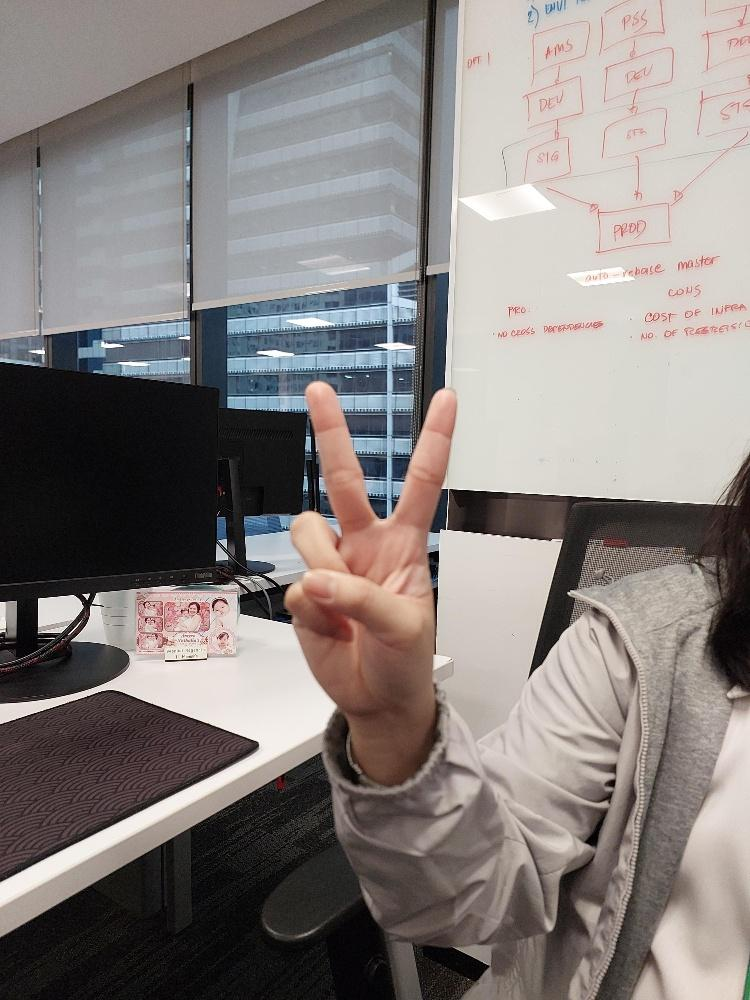v: (282, 378, 458, 711)
